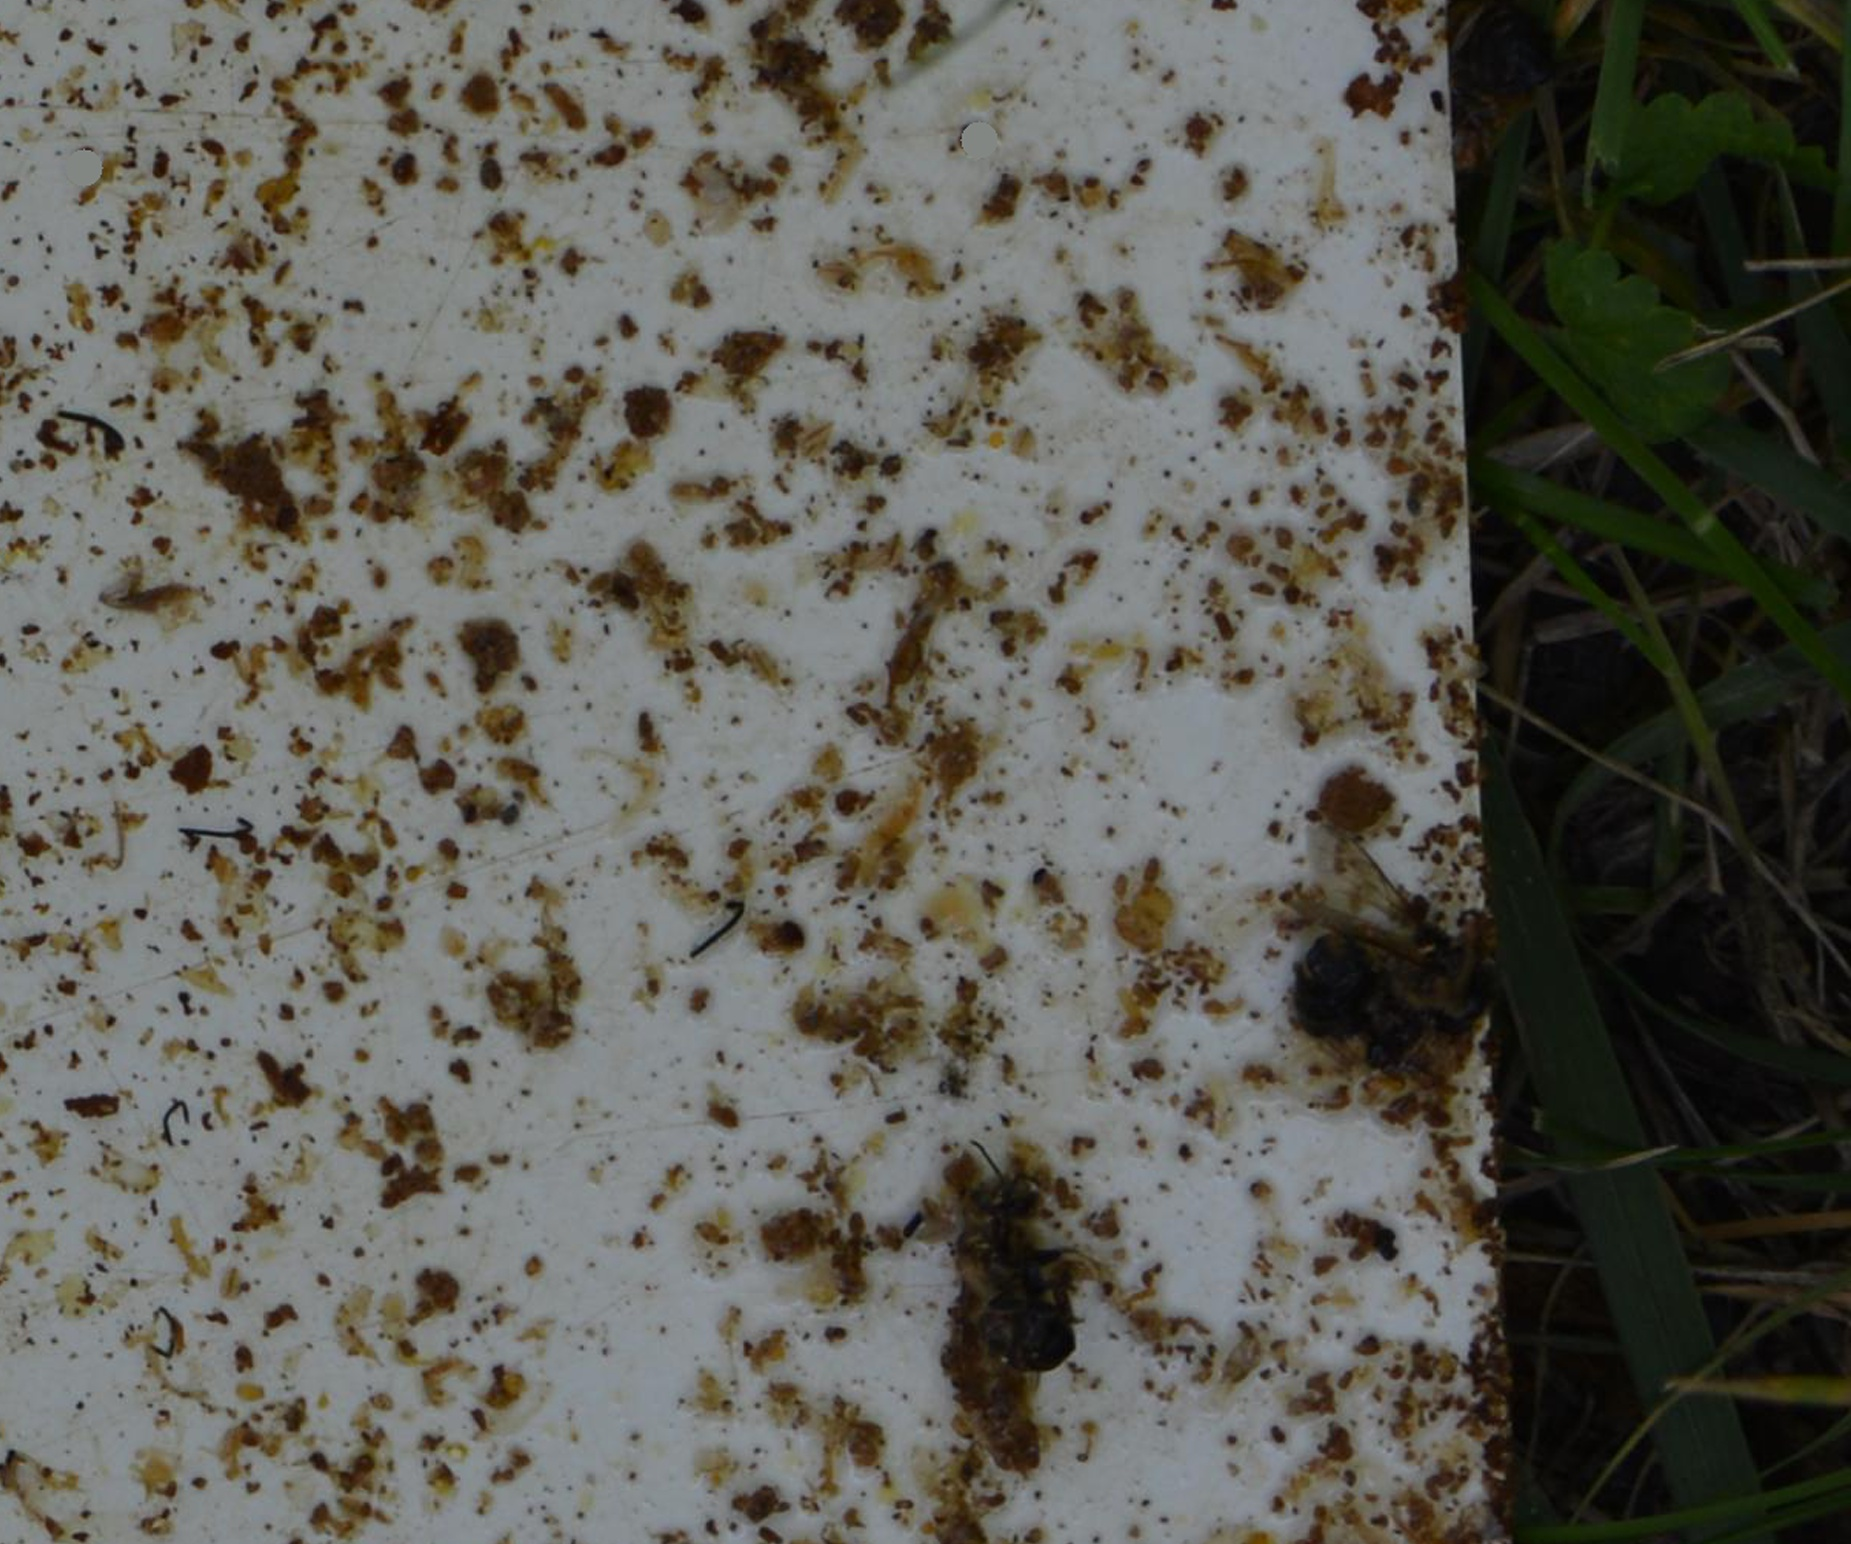Varroa: (470, 160, 503, 194), (211, 643, 238, 669)
